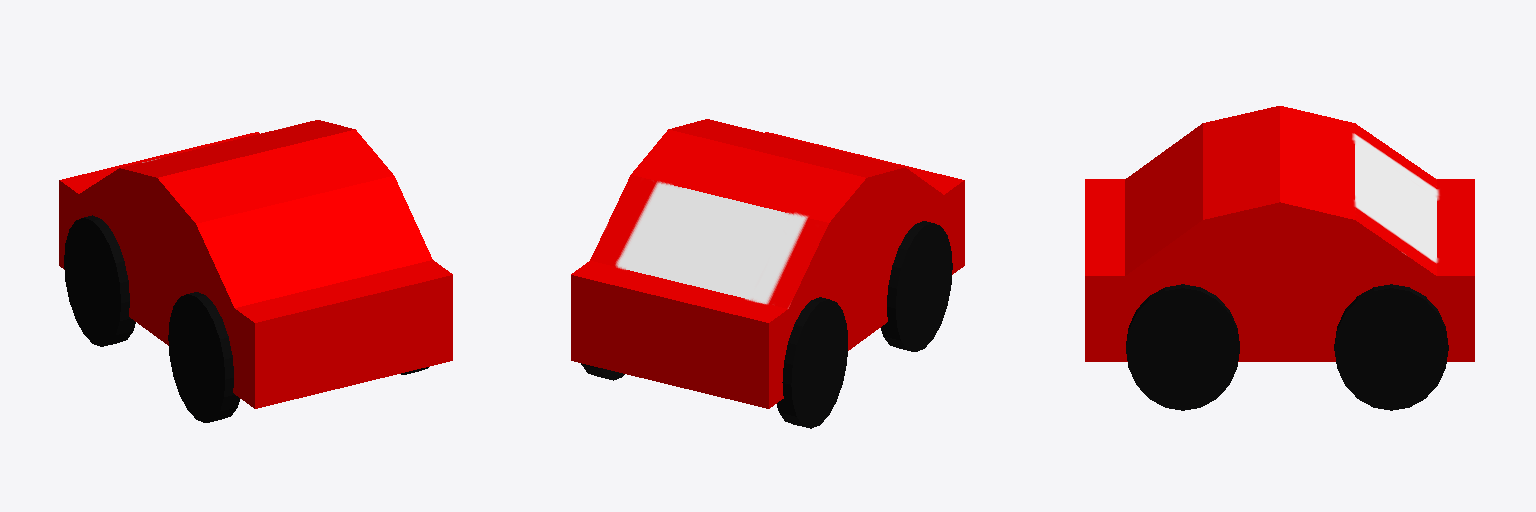
The picture shows the model from 3 angles: view 1: azimuth 30°, elevation 25°; view 2: azimuth 150°, elevation 25°; view 3: azimuth 270°, elevation 25°; orthographic projection.
Parts seen in each view (by area): view 1: carrito_pCylinder15; view 2: carrito_pCylinder15; view 3: carrito_pCylinder15.
Part boxes in pixels (x1,y1,x2,y2): carrito_pCylinder15: (59, 120, 452, 422); carrito_pCylinder15: (571, 119, 964, 428); carrito_pCylinder15: (1085, 106, 1474, 410).
Size of the model in its own units: 0.4405 by 0.3999 by 0.6926.
Materials: 1 (1 with a texture image).